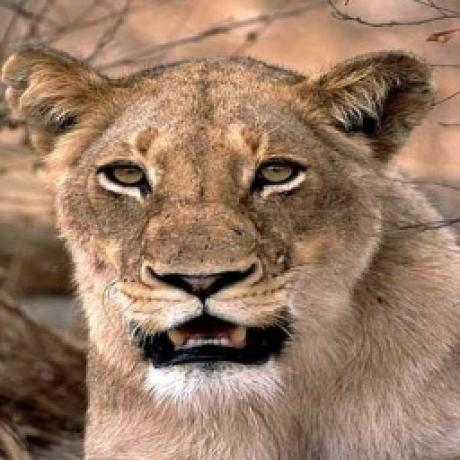Lion: (0, 45, 460, 460)
